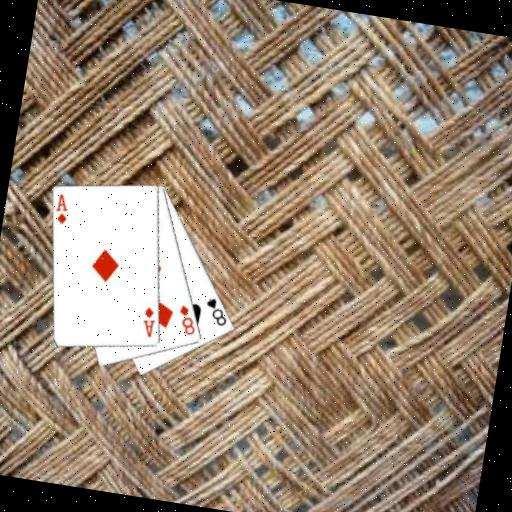8D: (173, 301, 201, 338)
8S: (200, 294, 231, 328)
AD: (138, 303, 159, 339), (51, 190, 72, 226)
